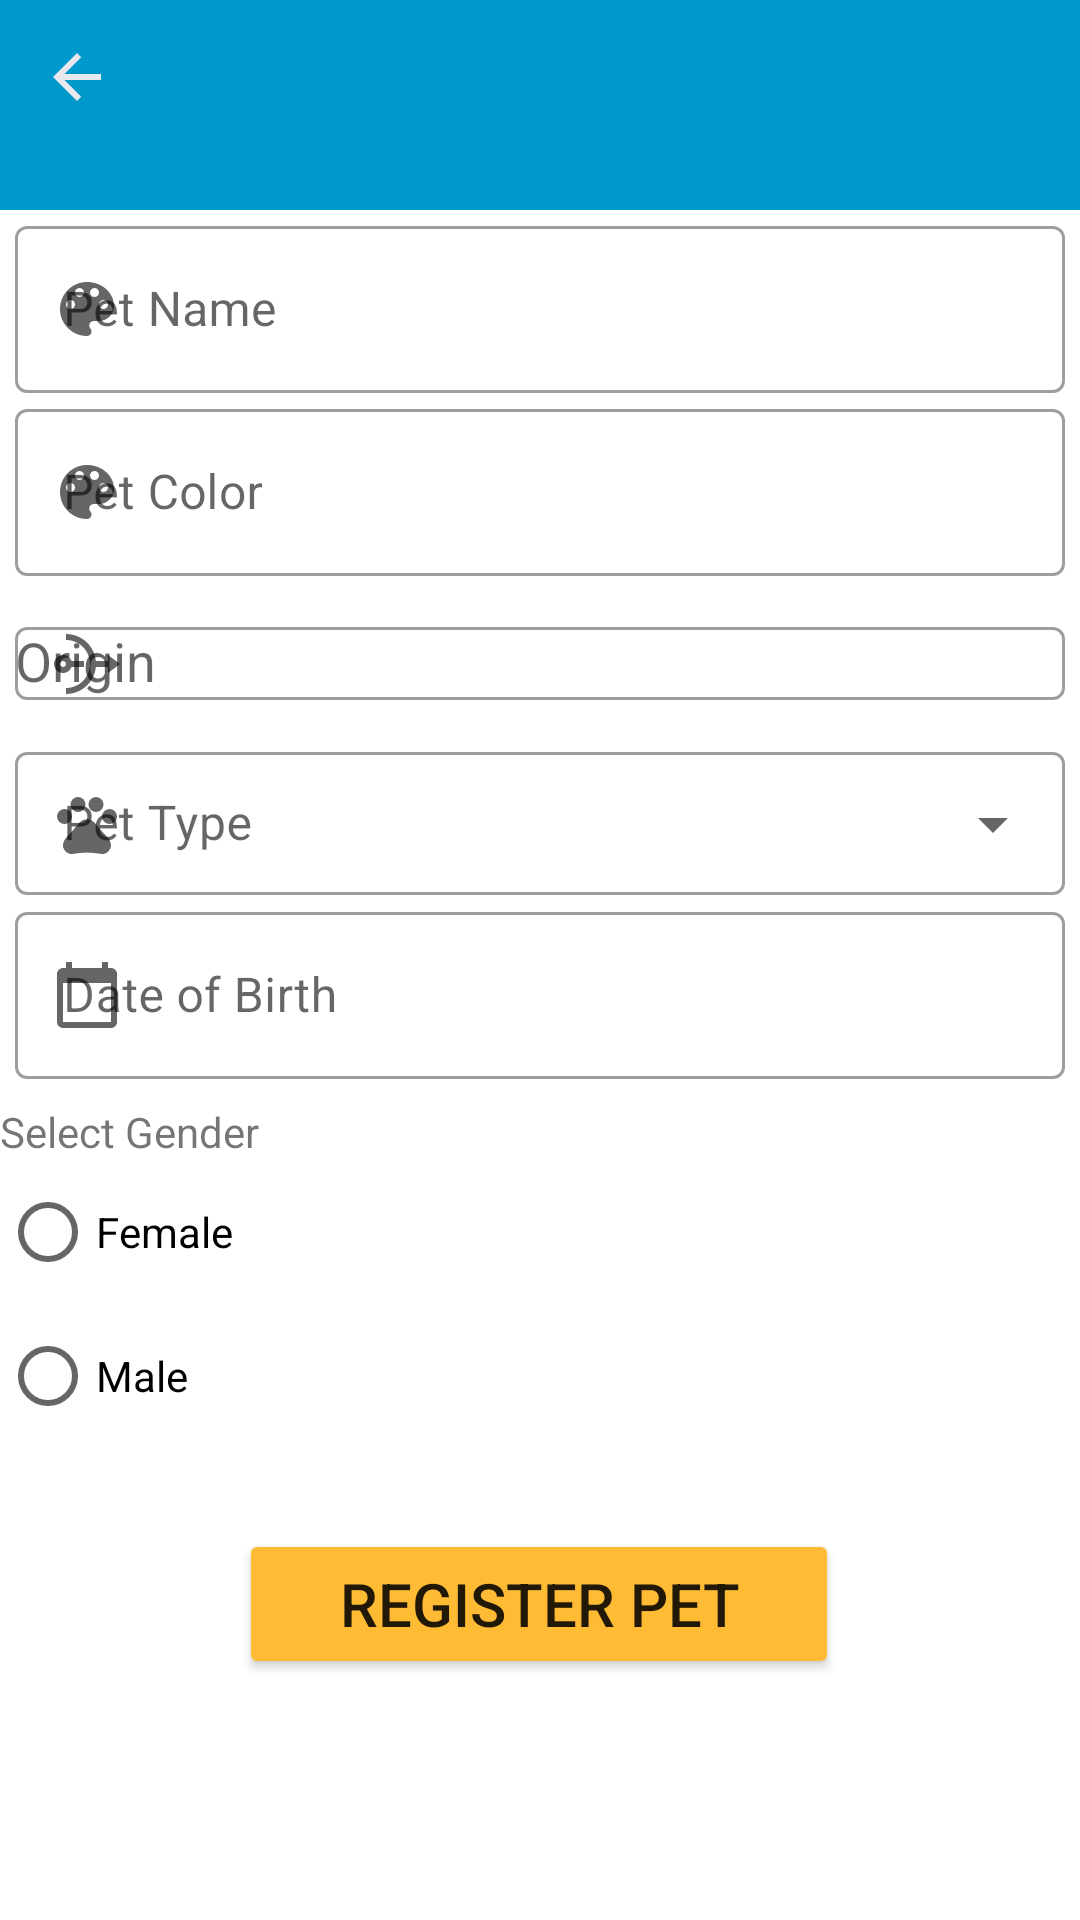

Named icons in this screenshot (1080px×1920px) and their bounding boxes, [x1=x1, y1=y1, x2=x2, y2=y2]:
arrow back: [x1=53, y1=53, x2=101, y2=101]
